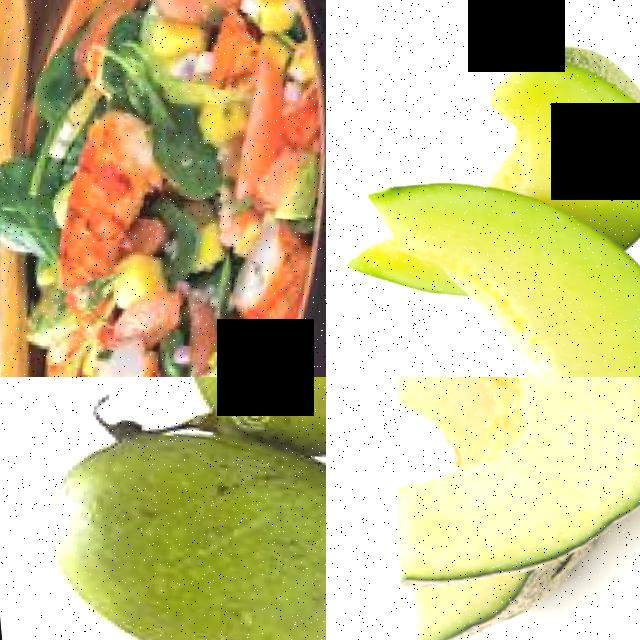mango: (0, 389, 326, 640), (150, 377, 326, 491)
melon: (326, 377, 640, 640), (446, 22, 640, 237), (398, 217, 640, 377)
